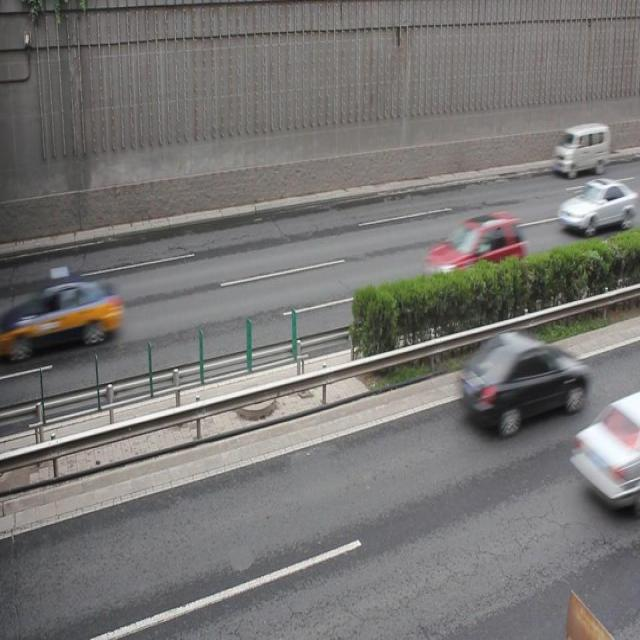car: (458, 329, 588, 432), (424, 210, 524, 296), (22, 271, 124, 354), (554, 178, 630, 230)
truck: (552, 124, 610, 172)
